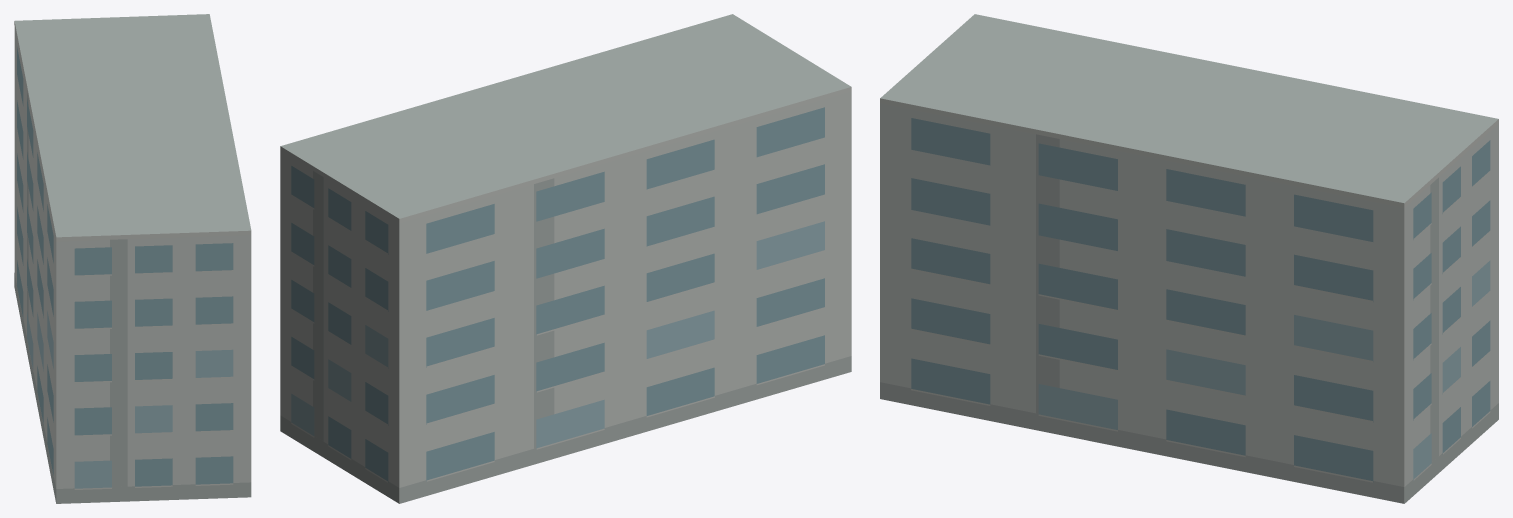
The model's file is residential-6253e8b5-66d4-444f-9a2c-65291a8caf79.glb.
The picture shows the model from 3 angles, left to right: view 1: azimuth 30°, elevation 25°; view 2: azimuth 150°, elevation 25°; view 3: azimuth 270°, elevation 25°; orthographic projection. The views are drawn at different scales.
Visible parts, largest first — view 1: residential-6253e8b5-66d4-444f-9a2c-65291a8caf79.tmp; view 2: residential-6253e8b5-66d4-444f-9a2c-65291a8caf79.tmp; view 3: residential-6253e8b5-66d4-444f-9a2c-65291a8caf79.tmp.
Part boxes in pixels (<box>): residential-6253e8b5-66d4-444f-9a2c-65291a8caf79.tmp: <box>14,14,251,503</box>; residential-6253e8b5-66d4-444f-9a2c-65291a8caf79.tmp: <box>280,14,851,503</box>; residential-6253e8b5-66d4-444f-9a2c-65291a8caf79.tmp: <box>880,14,1498,503</box>.
Bounding box in the file's own units: 20.59 × 15.25 × 28.45.
